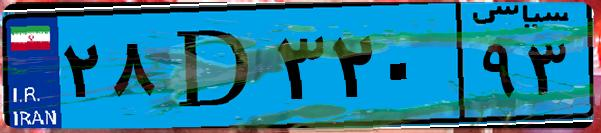0: (385, 28, 445, 110)
2: (330, 28, 385, 110), (57, 26, 110, 100)
3: (270, 28, 330, 110), (525, 38, 570, 115)
8: (110, 28, 158, 98)
9: (475, 38, 525, 113)
D: (158, 12, 270, 120)
